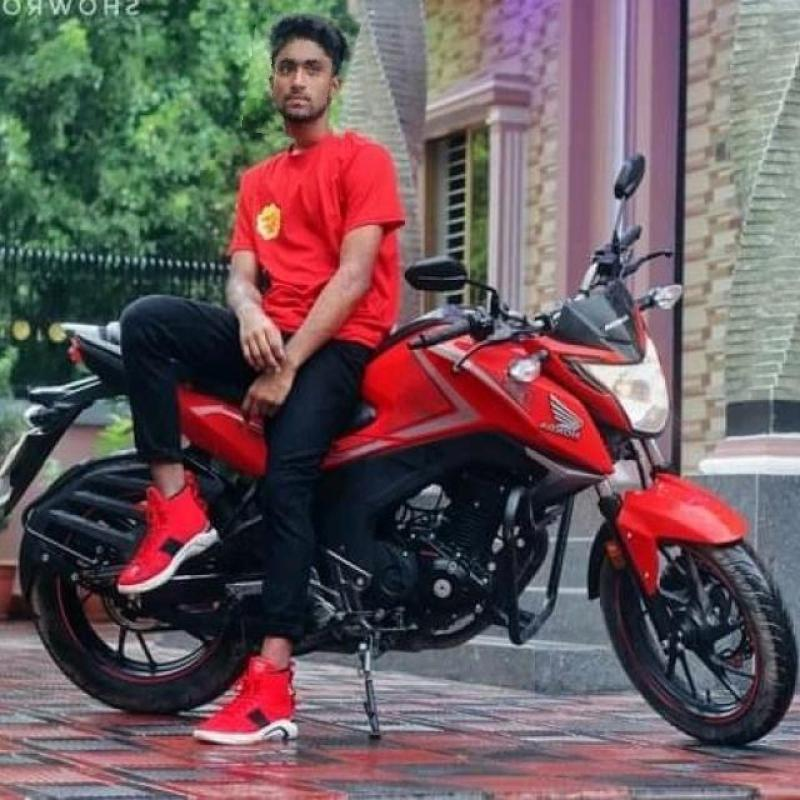nohelmet: (245, 12, 357, 142)
